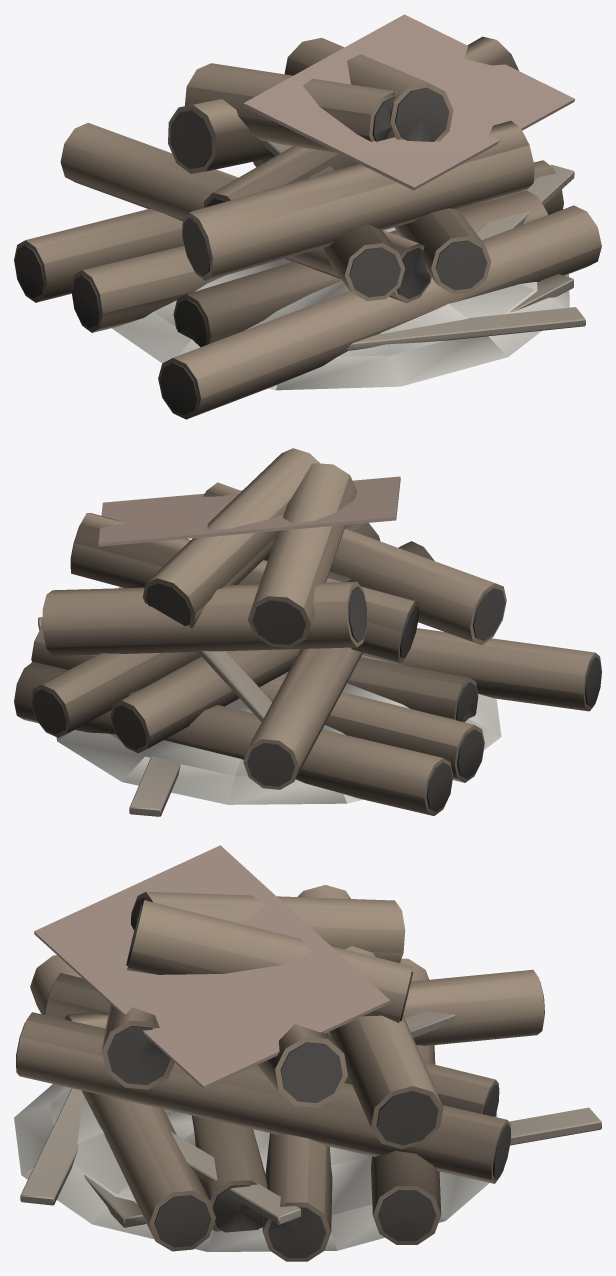
The model's file is rubble_logs.glb.
3 views of the same model, one above another, from view 1: azimuth 30°, elevation 25°; view 2: azimuth 150°, elevation 25°; view 3: azimuth 270°, elevation 25° (orthographic). The views are drawn at different scales.
Visible parts, largest first — view 1: static; view 2: static; view 3: static.
Boxes of the visible parts, bbox=[...] form: static: bbox=[14, 14, 601, 419]; static: bbox=[14, 448, 601, 816]; static: bbox=[14, 845, 601, 1261].
Bounding box in the file's own units: 1.98 × 0.8992 × 1.89.
